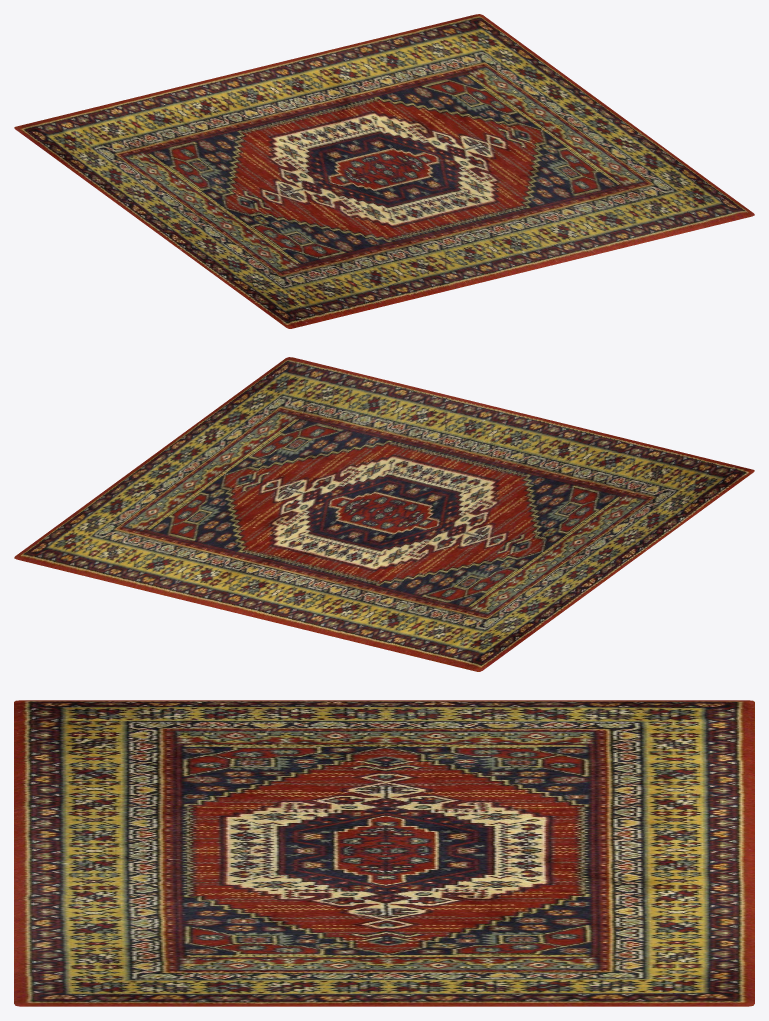
The model's file is carpet.fbx.
3 renders of one model, top to bottom at view 1: azimuth 30°, elevation 25°; view 2: azimuth 150°, elevation 25°; view 3: azimuth 270°, elevation 25°, orthographic. The views are drawn at different scales.
Visible parts, largest first — view 1: pCube26; view 2: pCube26; view 3: pCube26.
Boxes of the visible parts, x1,y1,x2,y2 form: pCube26: (14, 14, 754, 328); pCube26: (14, 357, 754, 671); pCube26: (14, 700, 754, 1006).
Bounding box in the file's own units: 37.95 × 0.1362 × 38.79.
